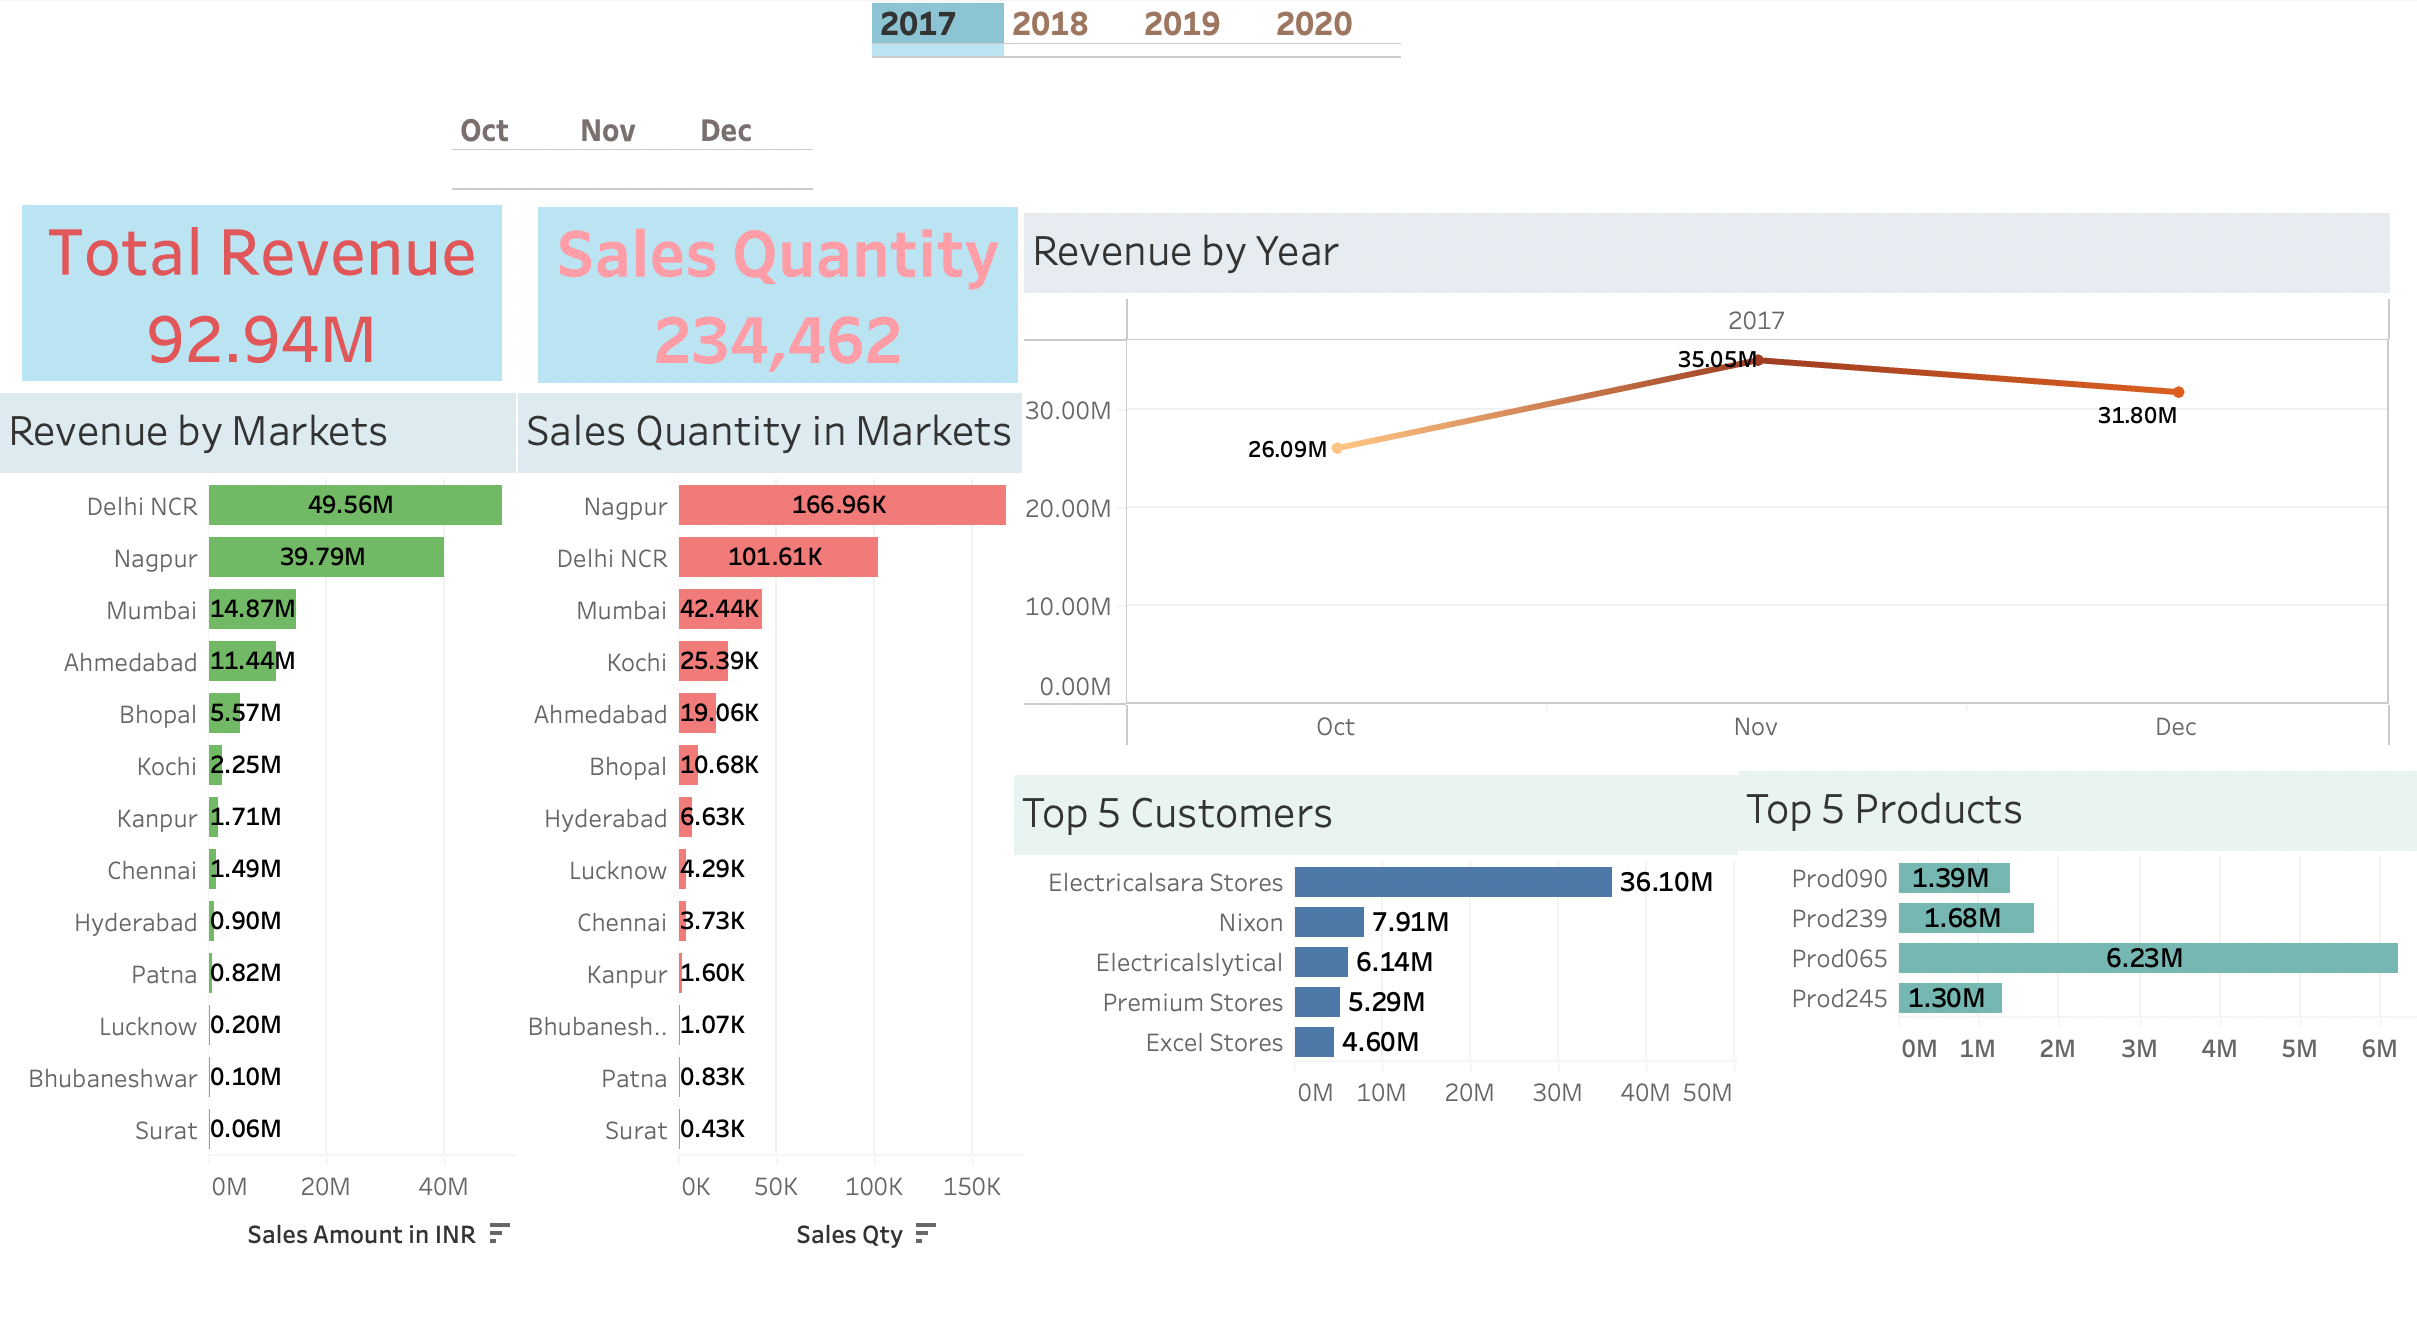

The page's visual inventory and layout, read from the dashboard file:
{"tool":"tableau","page":{"name":"Revenue Analysis","canvas":[1500,900],"ordinal":1},"visuals":[{"type":"worksheet","title":"Year","mark":"Automatic","cols":["cy_date"],"box":[438,1,288,47]},{"type":"worksheet","title":"Month","mark":"Automatic","cols":["cy_date"],"box":[228,54,742,49]},{"type":"worksheet","title":"Revenue by Year ","mark":"Automatic","rows":["Calculation_603412046854942720"],"cols":["cy_date","cy_date"],"box":[555,118,683,267]},{"type":"worksheet","title":"Revenue","mark":"Automatic","box":[4,124,252,90]},{"type":"worksheet","title":"Quantity","mark":"Automatic","box":[273,124,261,91]},{"type":"worksheet","title":"Sales Quantity in Markets","mark":"Automatic","rows":["markets_name"],"cols":["sales_qty"],"box":[264,218,275,463]},{"type":"worksheet","title":"Revenue by Markets","mark":"Automatic","rows":["markets_name"],"cols":["Calculation_603412046854942720"],"box":[6,219,258,501]},{"type":"worksheet","title":"Top Five Customers by Revenue ","mark":"Bar","rows":["custmer_name"],"cols":["Calculation_603412046854942720"],"box":[549,391,362,268]},{"type":"worksheet","title":"Top Five Products by Revenue","mark":"Automatic","rows":["product_code (products)"],"cols":["Calculation_603412046854942720"],"box":[907,394,343,493]}]}

Visuals, with their boxes on the page's 1500x900 design canvas (x1, y1, x2, y2). These are canvas units, not pixel positions in the 2417x1328 screenshot, which may show the page scaled, cropped or inside an application window:
"Year" worksheet: x1=438, y1=1, x2=726, y2=48
"Month" worksheet: x1=228, y1=54, x2=970, y2=103
"Revenue by Year " worksheet: x1=555, y1=118, x2=1238, y2=385
"Revenue" worksheet: x1=4, y1=124, x2=256, y2=214
"Quantity" worksheet: x1=273, y1=124, x2=534, y2=215
"Sales Quantity in Markets" worksheet: x1=264, y1=218, x2=539, y2=681
"Revenue by Markets" worksheet: x1=6, y1=219, x2=264, y2=720
"Top Five Customers by Revenue " worksheet (Bar marks): x1=549, y1=391, x2=911, y2=659
"Top Five Products by Revenue" worksheet: x1=907, y1=394, x2=1250, y2=887
